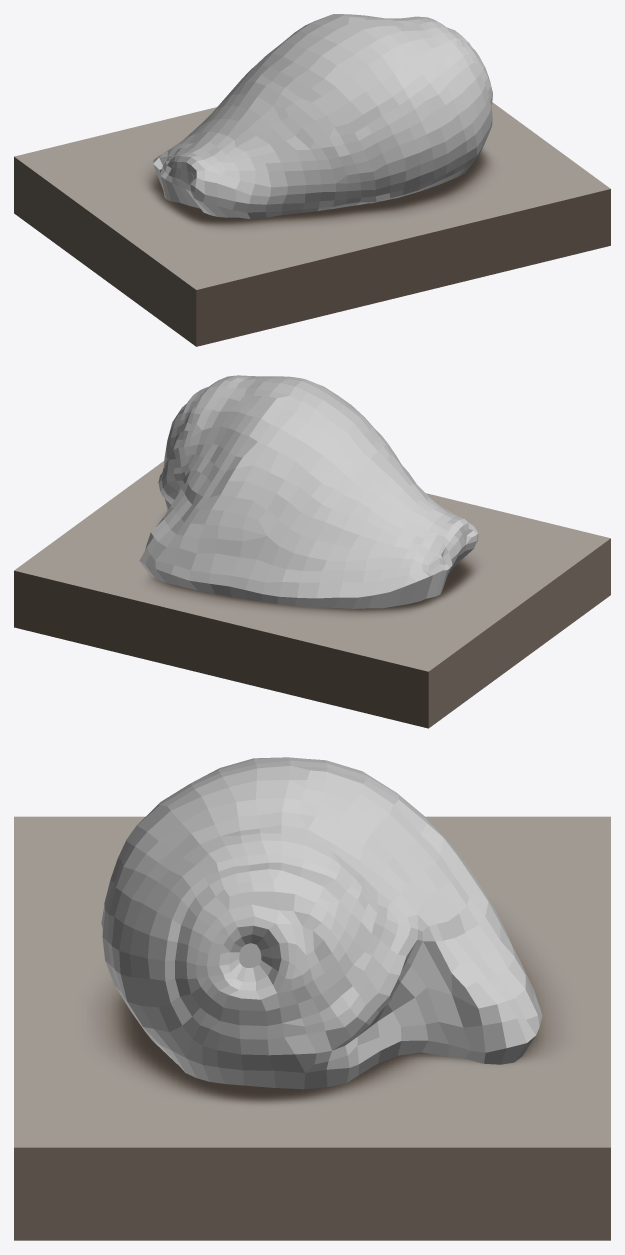
File: bien2.FBX
The picture shows the model from 3 angles, top to bottom: view 1: azimuth 30°, elevation 25°; view 2: azimuth 150°, elevation 25°; view 3: azimuth 270°, elevation 25°; orthographic projection. The views are drawn at different scales.
Visible parts, largest first — view 1: Box002, Box001; view 2: Box002, Box001; view 3: Box002, Box001.
Boxes of the visible parts, left/top/right/bottom form: Box002: left=14, top=102, right=610, bottom=346; Box001: left=153, top=14, right=492, bottom=218; Box002: left=14, top=461, right=610, bottom=728; Box001: left=139, top=375, right=478, bottom=608; Box002: left=14, top=816, right=610, bottom=1240; Box001: left=101, top=757, right=542, bottom=1089.
Bounding box in the file's own units: 157 × 73.74 × 119.
